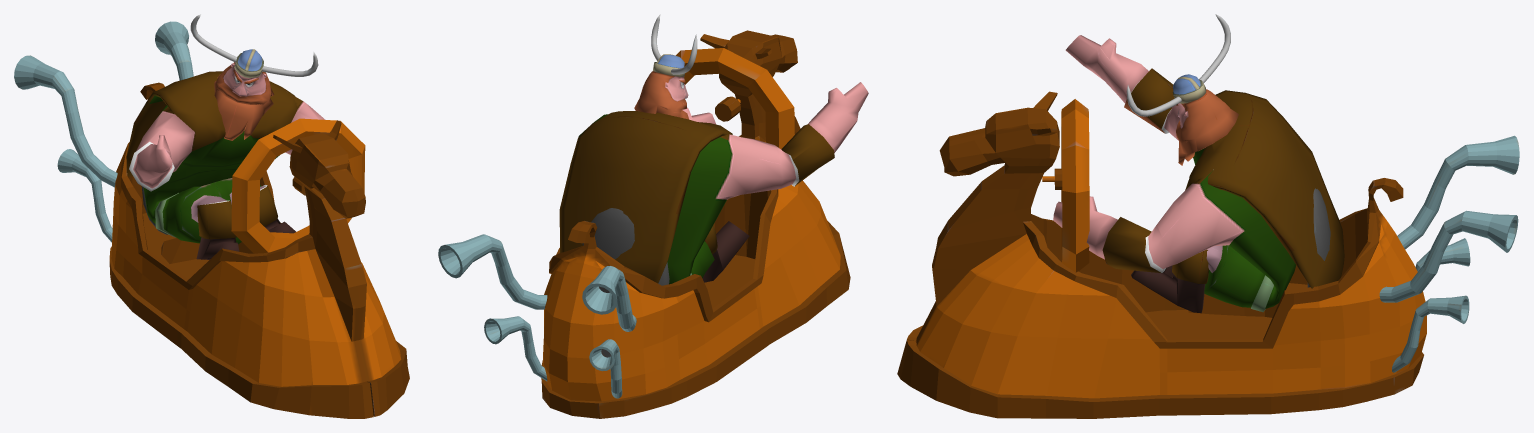
File: vikingoVacile_000442.obj
3 views of the same model, side by side, from view 1: azimuth 30°, elevation 25°; view 2: azimuth 150°, elevation 25°; view 3: azimuth 270°, elevation 25° (orthographic). The views are drawn at different scales.
Visible parts, largest first — view 1: kartVikingo, Vikingo; view 2: kartVikingo, Vikingo; view 3: kartVikingo, Vikingo.
Boxes of the visible parts, x1,y1,x2,y2 form: kartVikingo: (14,21,409,418); Vikingo: (126,14,325,259); kartVikingo: (438,30,850,418); Vikingo: (559,14,868,284); kartVikingo: (897,91,1519,418); Vikingo: (1053,14,1344,313).
Size of the model in its own units: 4.94 by 6.31 by 10.31.
Materials: 2 (2 with a texture image).
